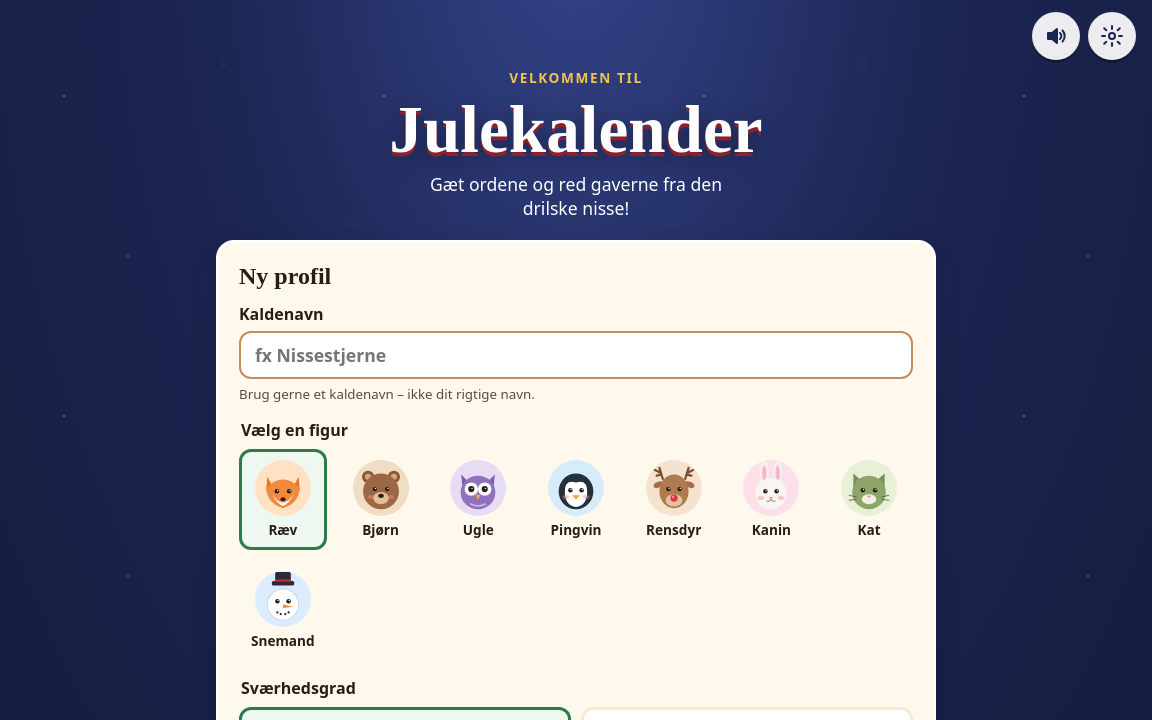
Test: app-flow › låste låger kan ikke åbnes
In the field labelled "Kaldenavn Brug gerne et kaldenavn – ikke dit rigtige navn.": (576, 355) [239,331,913,379], type "Al"
(page scrolled)
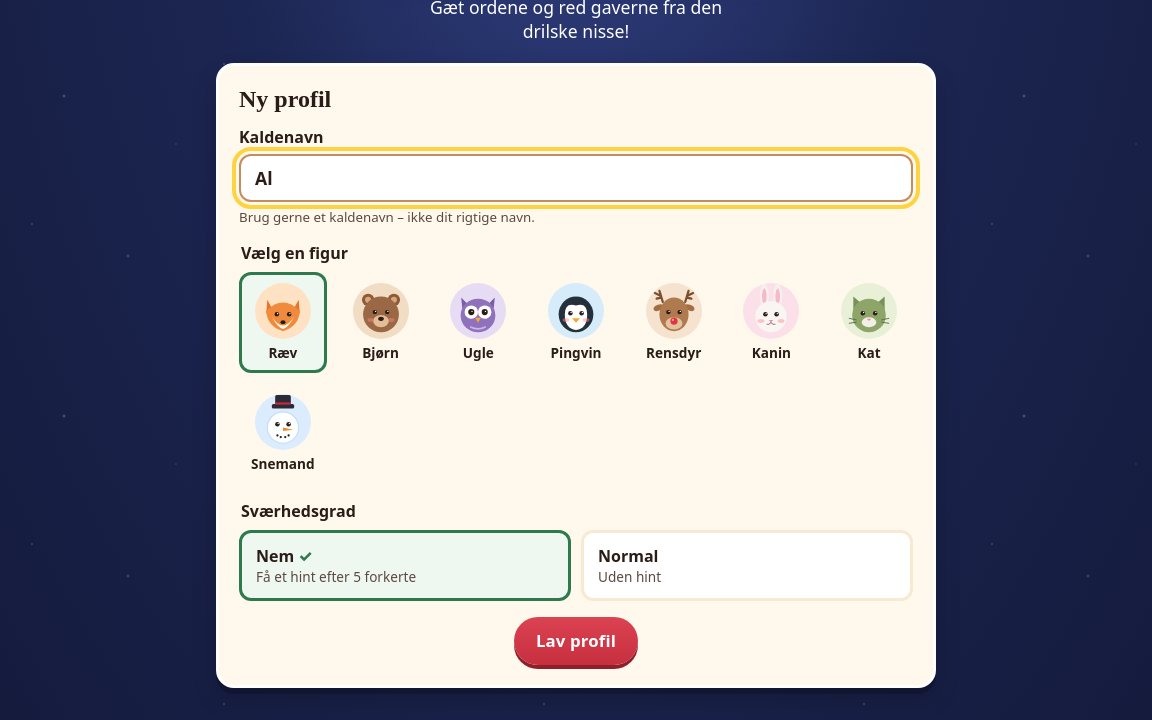
Click the text "Normal": (628, 556) [598,545,658,567]
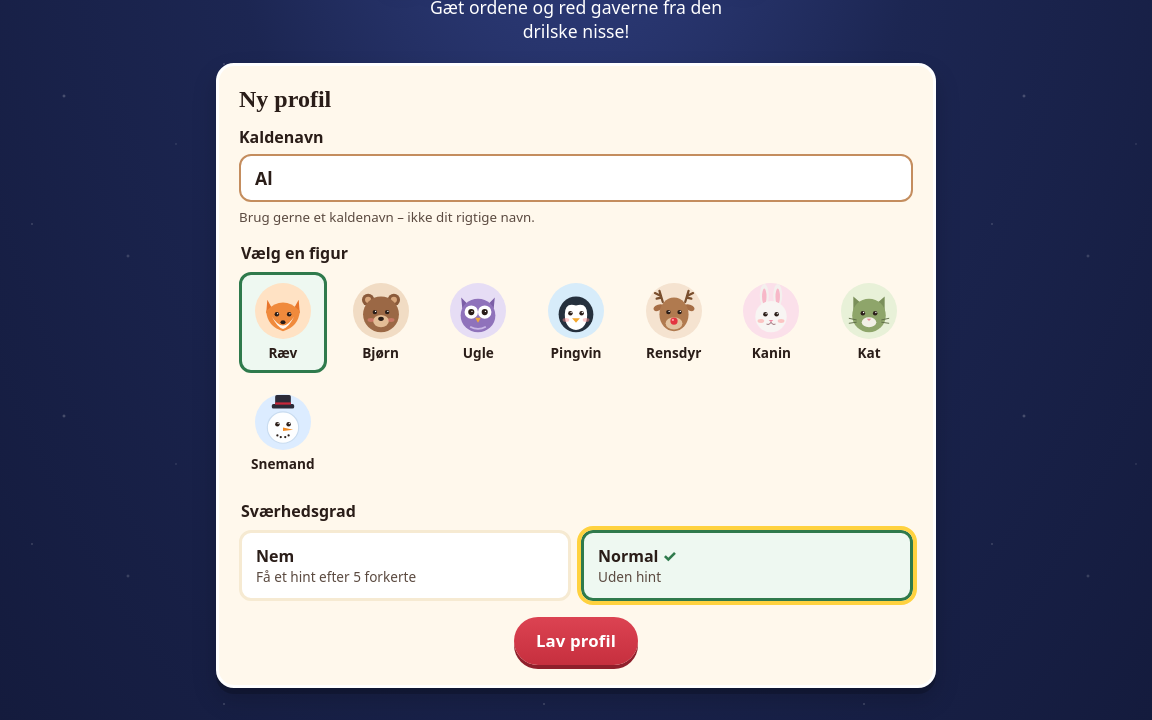
Click the button "Lav profil": (576, 641) [514,617,638,665]
(page scrolled)
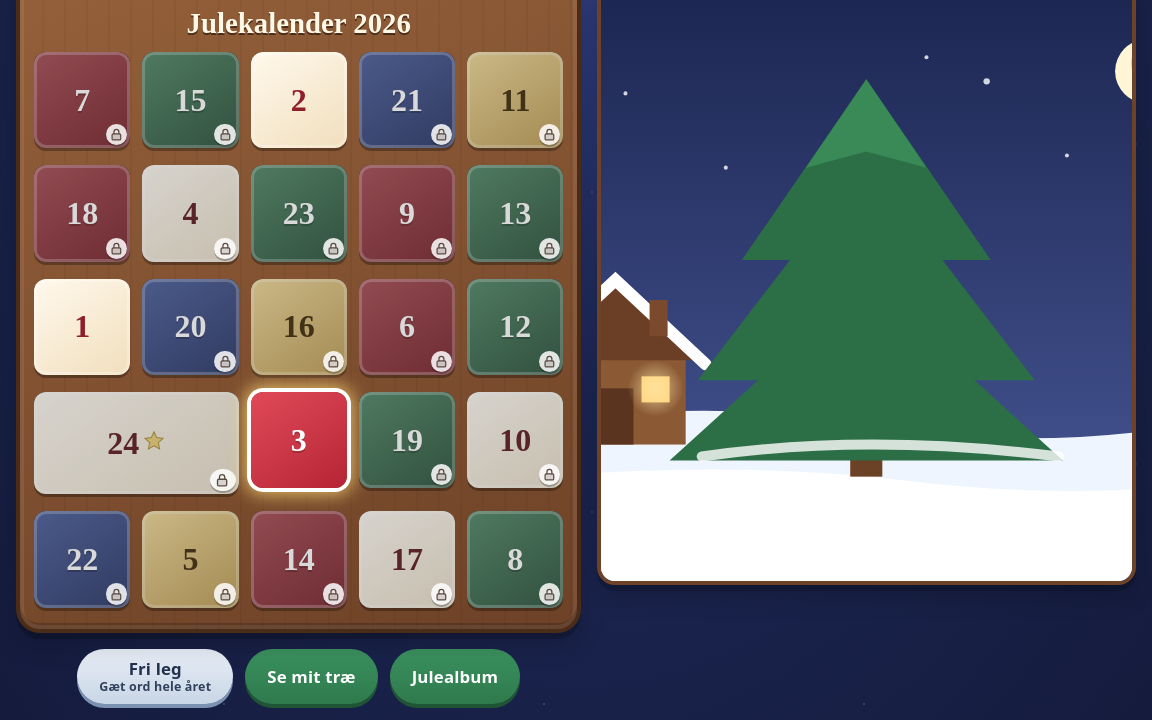
Click the button named "Låge 10: låst": (515, 440) [467,392,564,488]
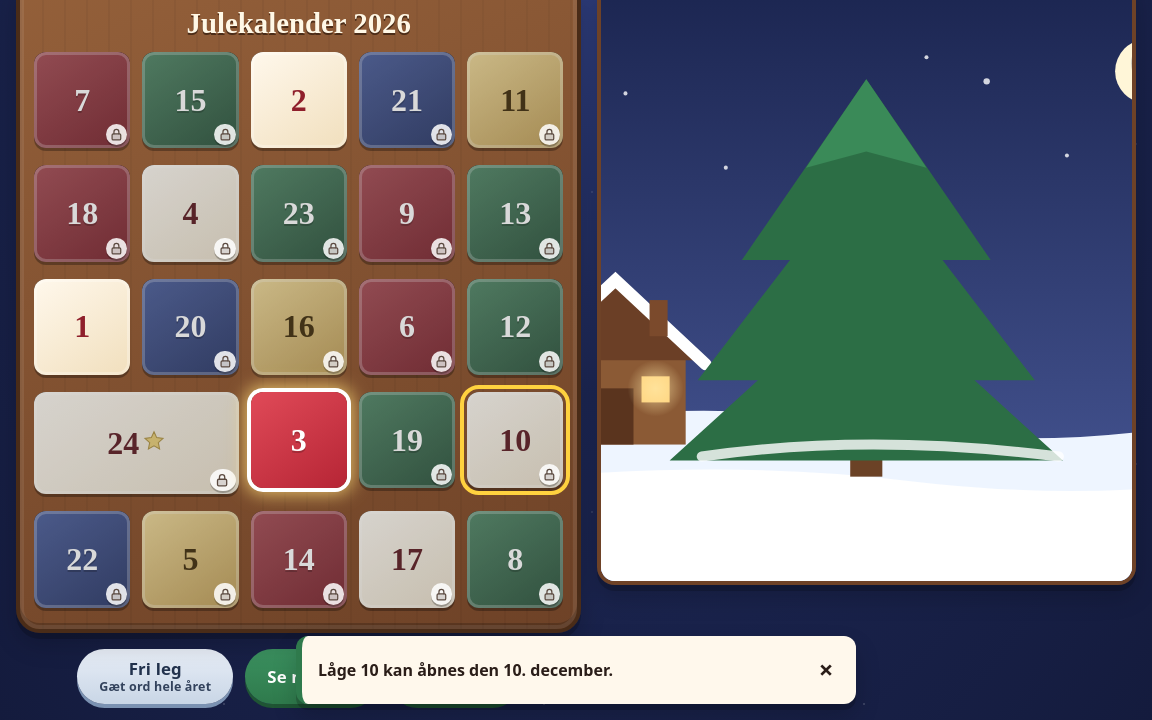
Now the text "Låge 10 kan åbnes den 10. december." is shown, box [318,659,613,681]
